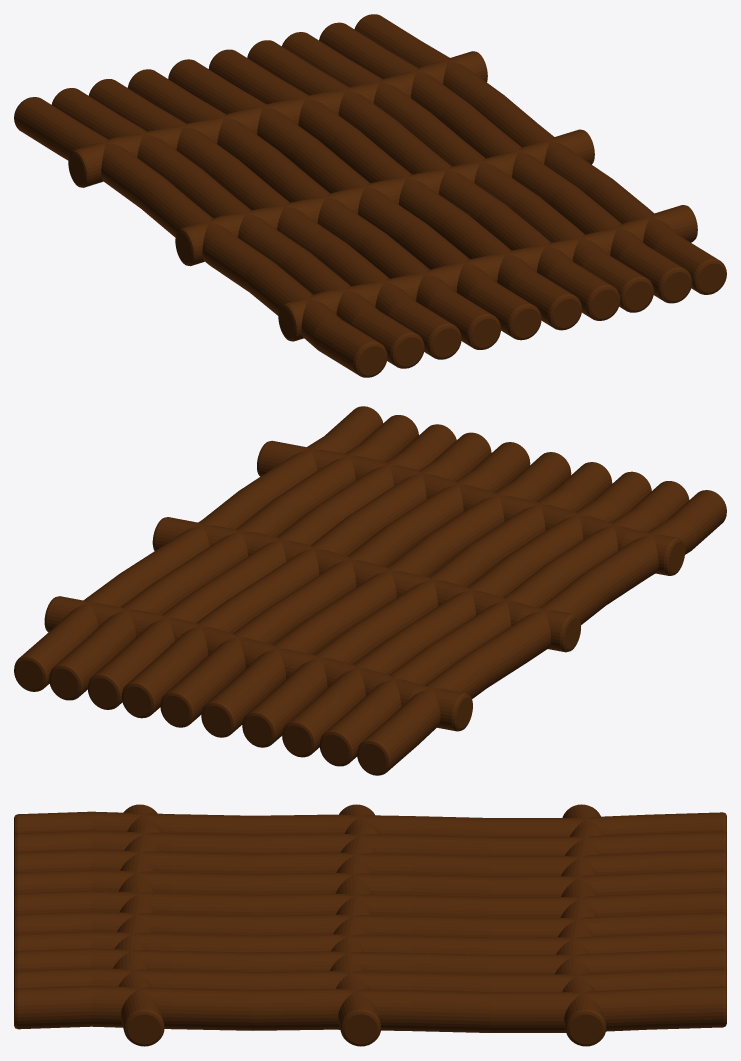
File: Radeau.fbx
The picture shows the model from 3 angles, top to bottom: view 1: azimuth 30°, elevation 25°; view 2: azimuth 150°, elevation 25°; view 3: azimuth 270°, elevation 25°; orthographic projection. The views are drawn at different scales.
Parts seen in each view (by area): view 1: Cylinder.008; view 2: Cylinder.008; view 3: Cylinder.008.
Boxes of the visible parts, <box> form: Cylinder.008: <box>14,14,726,377</box>; Cylinder.008: <box>14,406,726,775</box>; Cylinder.008: <box>14,804,726,1046</box>.
Bounding box in the file's own units: 2197 × 183 × 3184.
